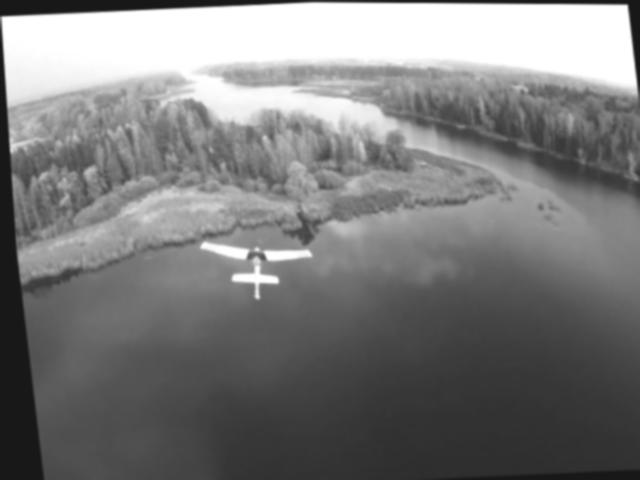hedef: (193, 229, 318, 312)
